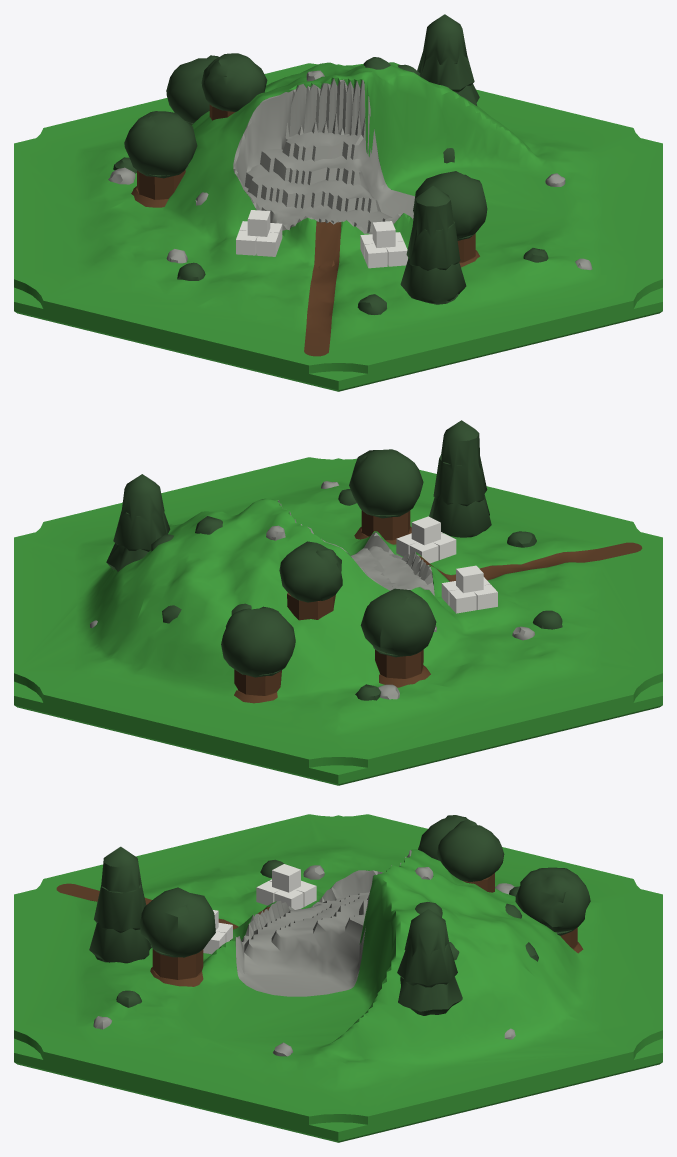
File: huegel_4.glb
3 renders of one model, top to bottom at view 1: azimuth 30°, elevation 25°; view 2: azimuth 150°, elevation 25°; view 3: azimuth 270°, elevation 25°, orthographic.
Visible parts, largest first — view 1: huegel_4; view 2: huegel_4; view 3: huegel_4.
Part boxes in pixels (box(x1,y1,x2,y2)): huegel_4: box(14, 14, 662, 391); huegel_4: box(14, 420, 662, 785); huegel_4: box(14, 814, 662, 1142).
Size of the model in its own units: 65.24 by 14.52 by 56.5.
